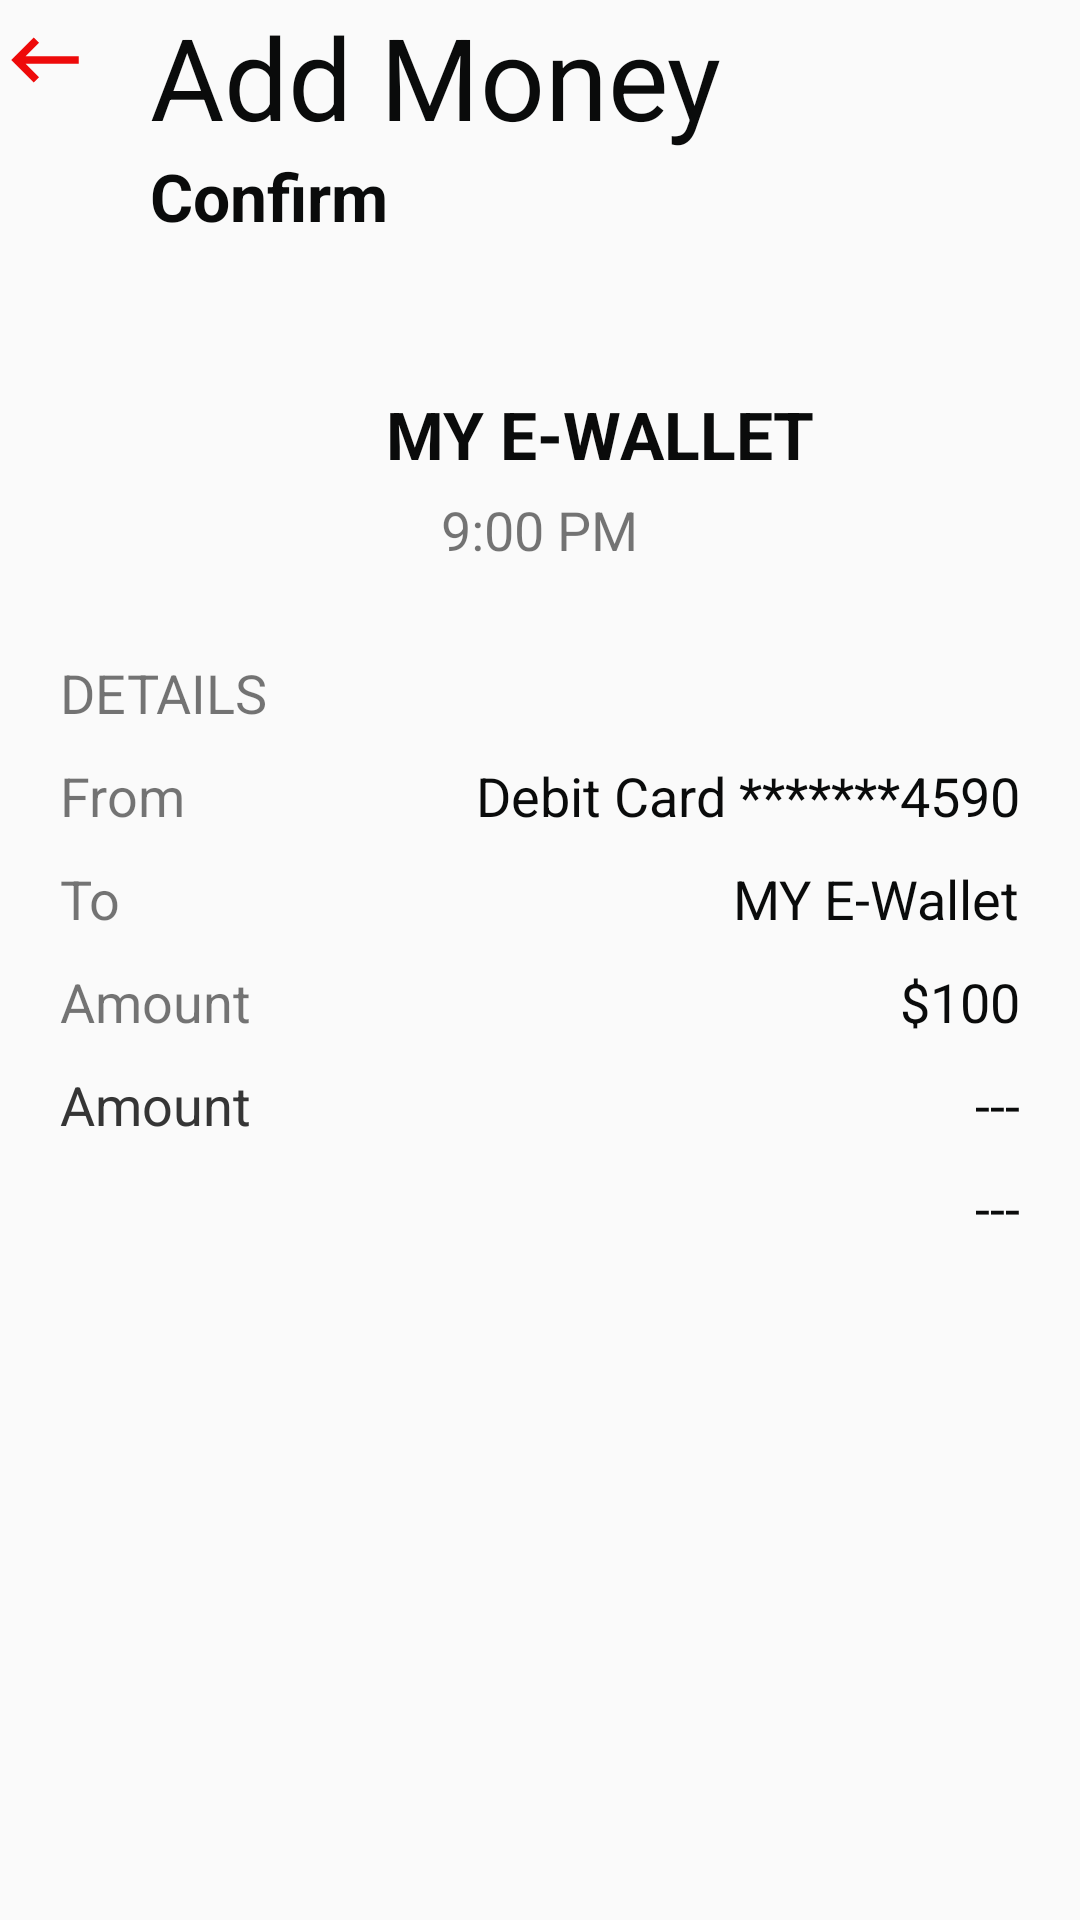

Point at icon controls on the screen. Image size 1080px×1920px, points as (x=x, y=y).
back arrow: (x=45, y=60)
